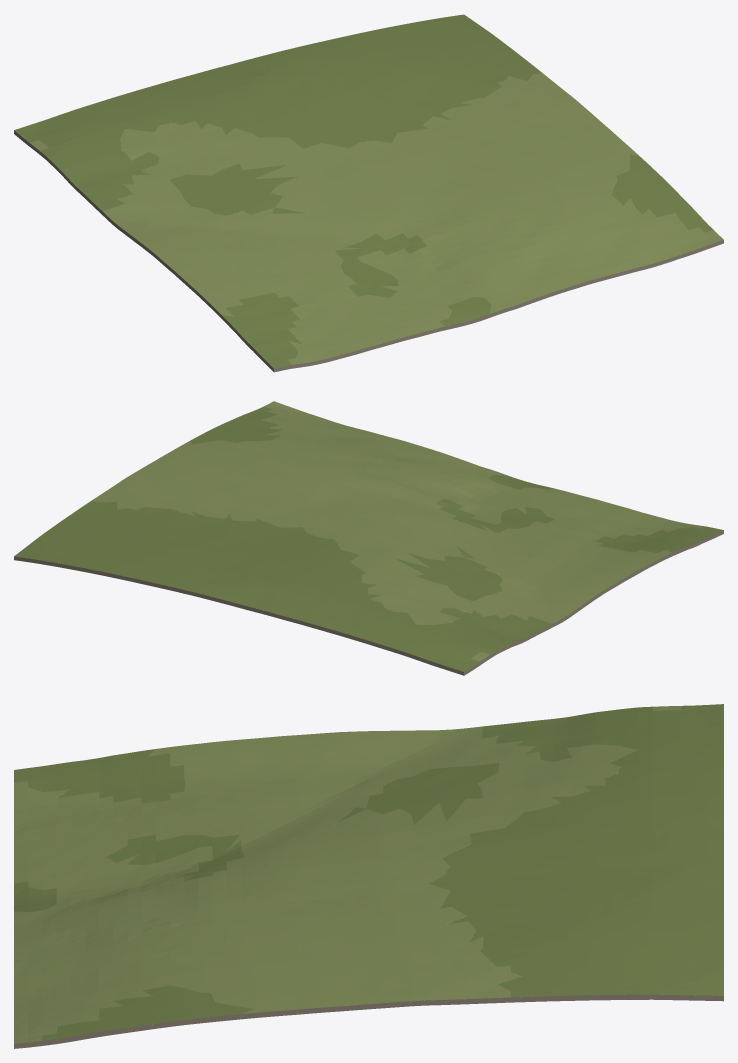
Rendered from parca_+7_-1-uzak.glb.
3 renders of one model, top to bottom at view 1: azimuth 30°, elevation 25°; view 2: azimuth 150°, elevation 25°; view 3: azimuth 270°, elevation 25°, orthographic. The views are drawn at different scales.
Visible parts, largest first — view 1: parca_+7_-1_arazi_uzak; view 2: parca_+7_-1_arazi_uzak; view 3: parca_+7_-1_arazi_uzak.
Part boxes in pixels (x1,y1,x2,y2): parca_+7_-1_arazi_uzak: [14, 14, 723, 372]; parca_+7_-1_arazi_uzak: [14, 401, 723, 675]; parca_+7_-1_arazi_uzak: [14, 704, 723, 1048].
Size of the model in its own units: 1000 by 147 by 1000.
